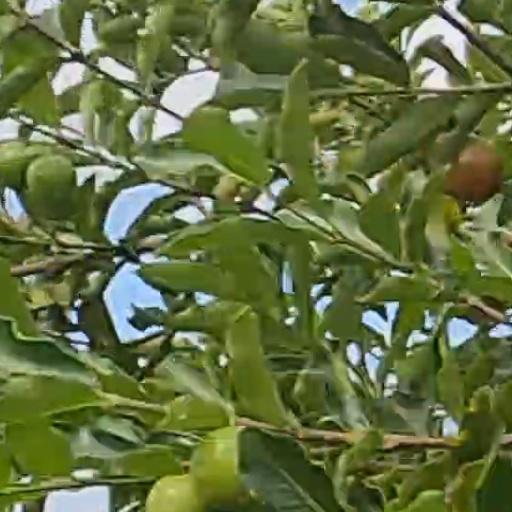acerola: (447, 145, 502, 200), (145, 476, 202, 510)
